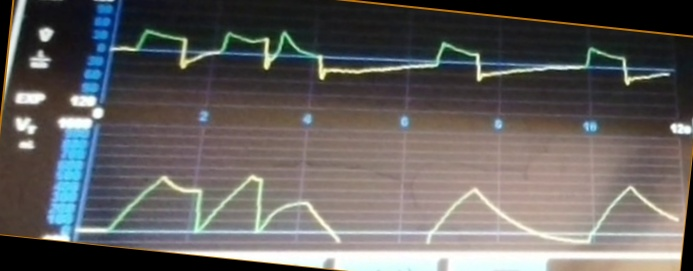Double_Triggering Flow: (116, 26, 671, 104)
Double_Triggering Volume: (93, 167, 675, 246)
